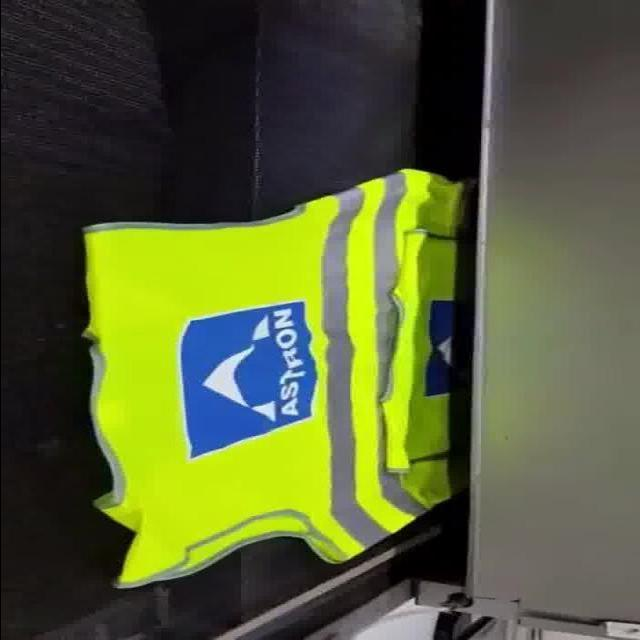vest: (79, 166, 472, 592)
